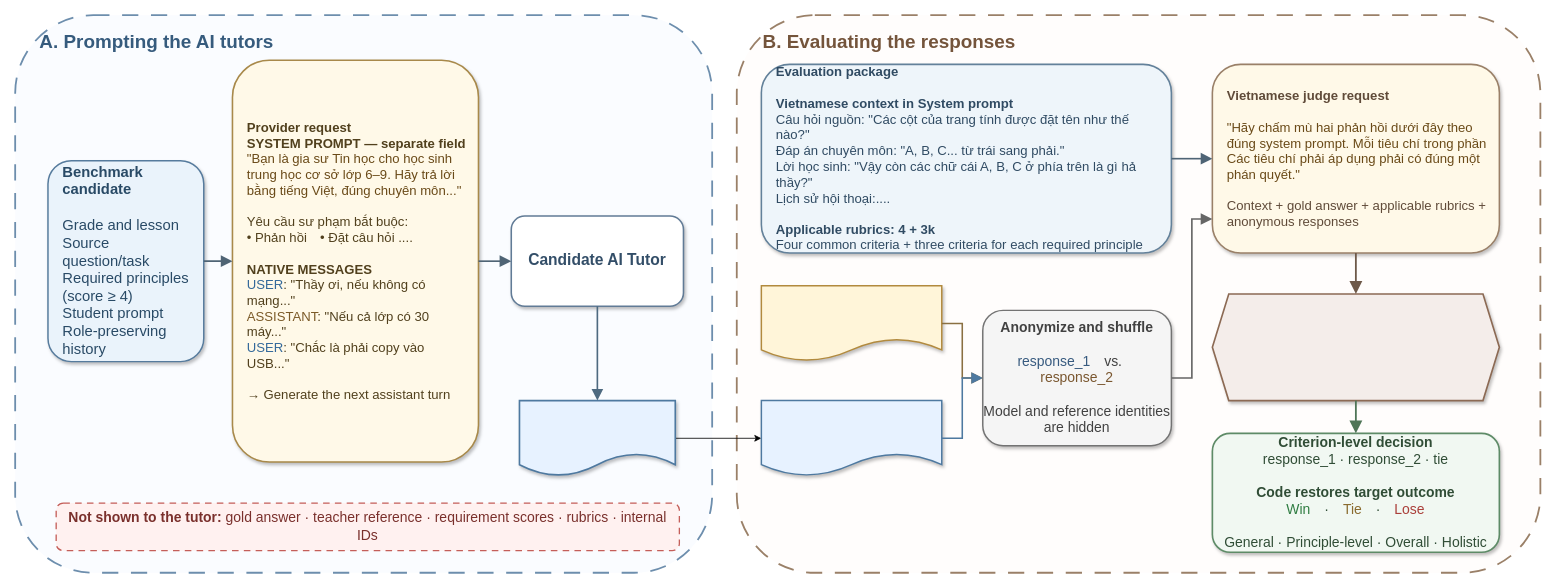
The diagram is 1556 pixels wide and 588 high, and some of its shapes have lost their labels. The centre of each missing label's shape, as x and y in pixels:
Generated tutor response "Các chữ cái A, B, C... là tên của các cột đấy em.": (x=852, y=439)
Source-blind LLM judges: (x=1356, y=348)
Teacher-authored reference "Em đã biết hàng được đánh số rồi...": (x=852, y=324)
Tutor response one per configuration 2,048-token cap: (x=598, y=439)
